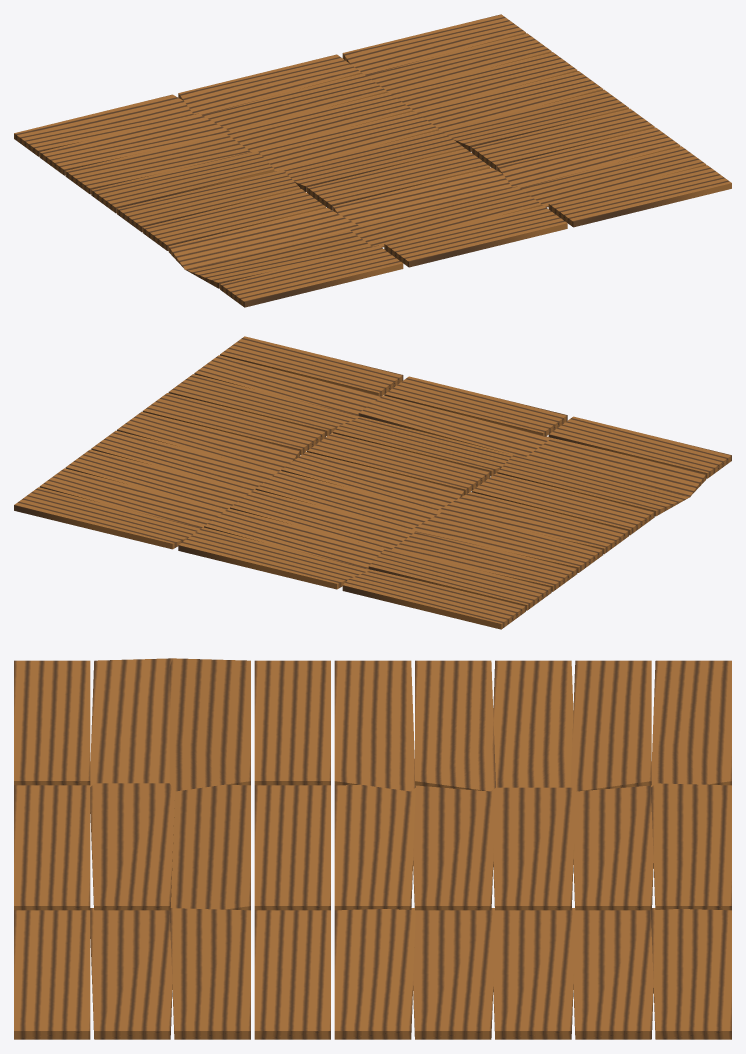
The model's file is bedroom floor.fbx.
3 views of the same model, one above another, from view 1: azimuth 30°, elevation 25°; view 2: azimuth 150°, elevation 25°; view 3: azimuth 270°, elevation 25° (orthographic). The views are drawn at different scales.
Visible parts, largest first — view 1: Cube.006; view 2: Cube.006; view 3: Cube.006.
Part boxes in pixels (x1,y1,x2,y2): Cube.006: [14, 14, 731, 307]; Cube.006: [14, 336, 731, 629]; Cube.006: [14, 658, 731, 1039].
Bounding box in the file's own units: 424 × 4.62 × 341.
1 material, 1 textured.
